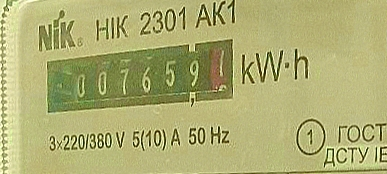0: (75, 69, 89, 98), (96, 68, 110, 96)
1: (215, 47, 228, 79)
5: (162, 57, 179, 89)
6: (140, 62, 154, 94)
7: (117, 63, 132, 96)
9: (186, 55, 203, 90)
screen: (30, 22, 256, 128)
